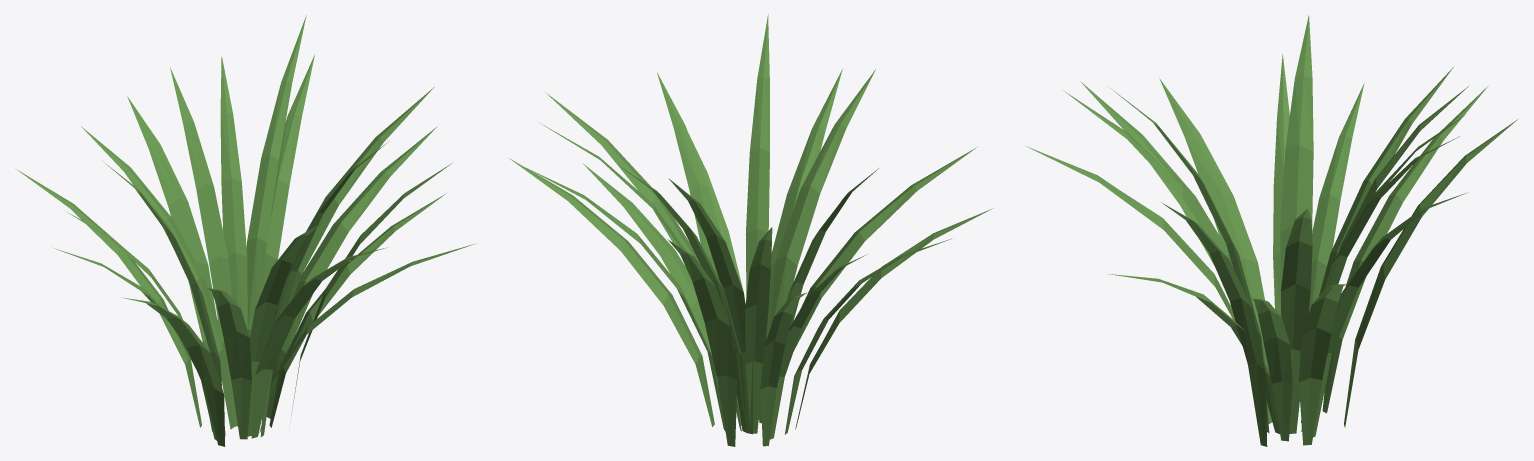
File: grass_tuft_c.glb
3 renders of one model, left to right at view 1: azimuth 30°, elevation 25°; view 2: azimuth 150°, elevation 25°; view 3: azimuth 270°, elevation 25°, orthographic. The views are drawn at different scales.
Parts seen in each view (by area): view 1: grass_tuft_c; view 2: grass_tuft_c; view 3: grass_tuft_c.
Boxes of the visible parts, <box> form: grass_tuft_c: <box>15,15,476,446</box>; grass_tuft_c: <box>509,14,993,446</box>; grass_tuft_c: <box>1026,15,1517,446</box>.
Size of the model in its own units: 0.5075 by 0.39 by 0.463.
